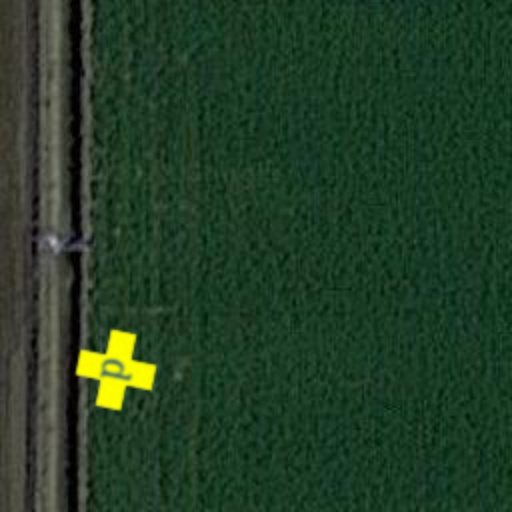cross: (68, 322, 164, 418)
